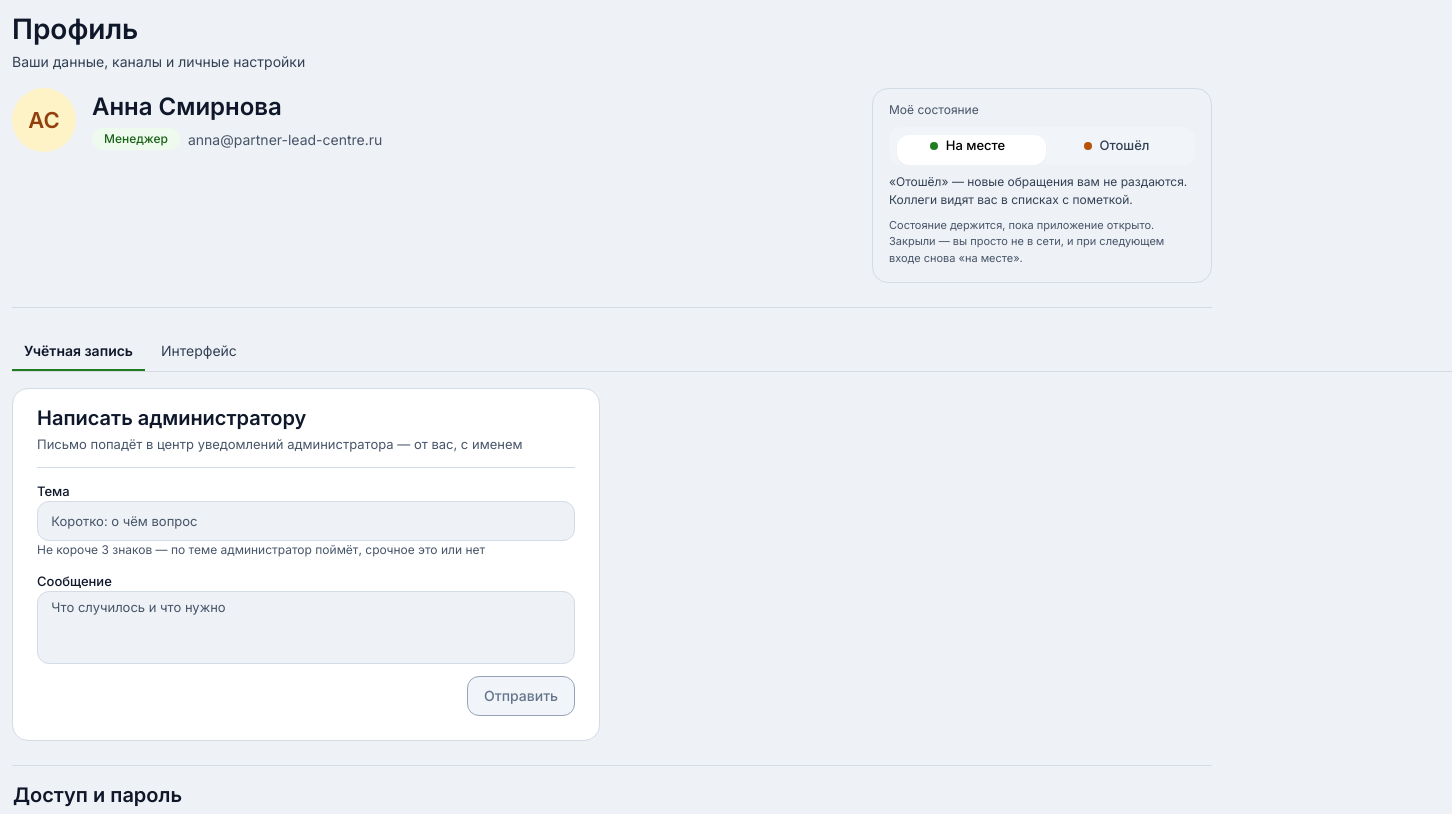
it: Форма «Написать администратору» (14 §2.2) › подтверждение гаснет, как только человек начал писать следующее письмо
Type "Не работает отправка" into the field labelled "Тема" at (306, 521), box [37,501,575,541]
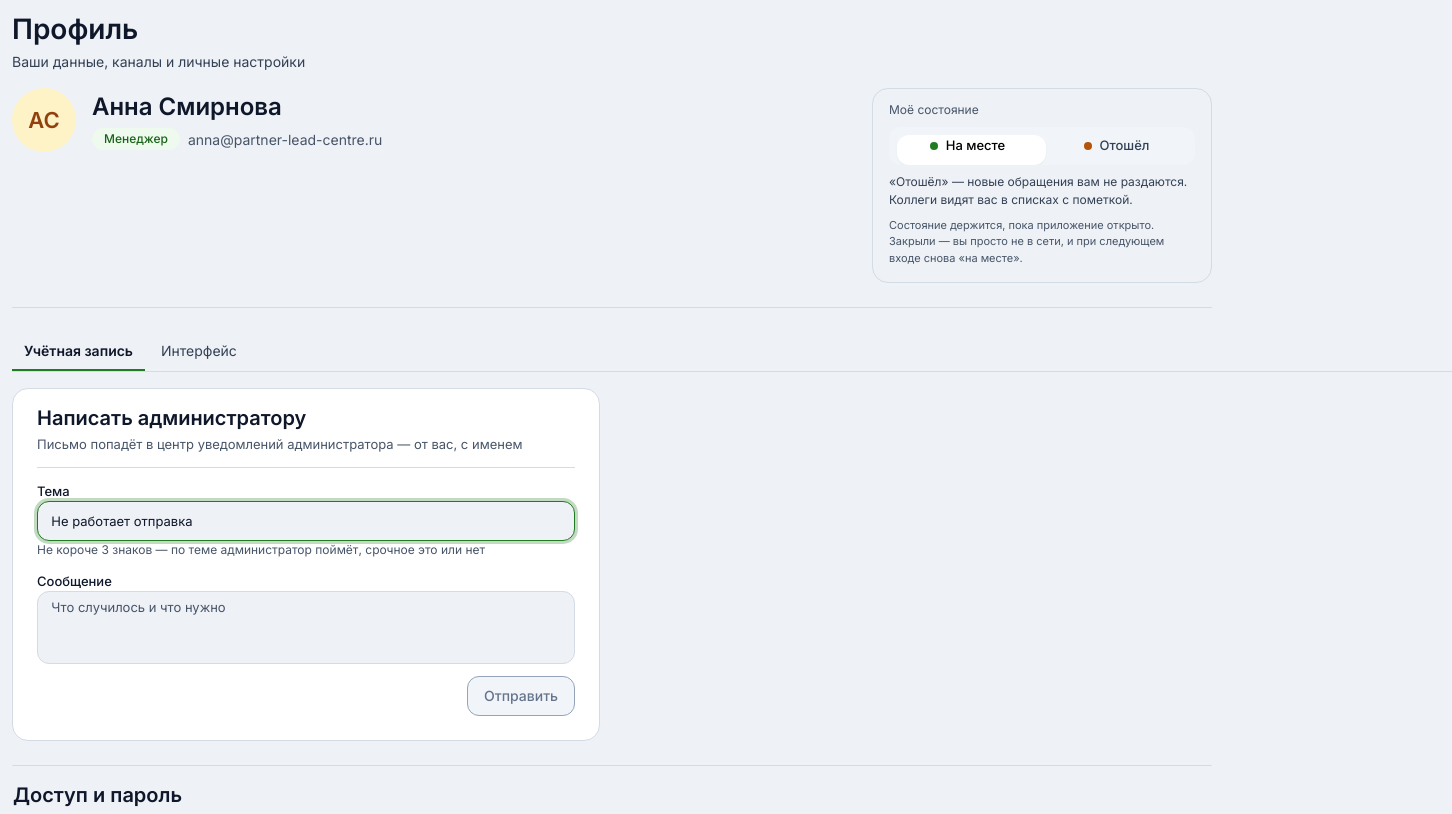
Type "Второй день не уходят сообщения из диалога" into the text box labelled "Сообщение" at (306, 628), box [37,591,575,664]
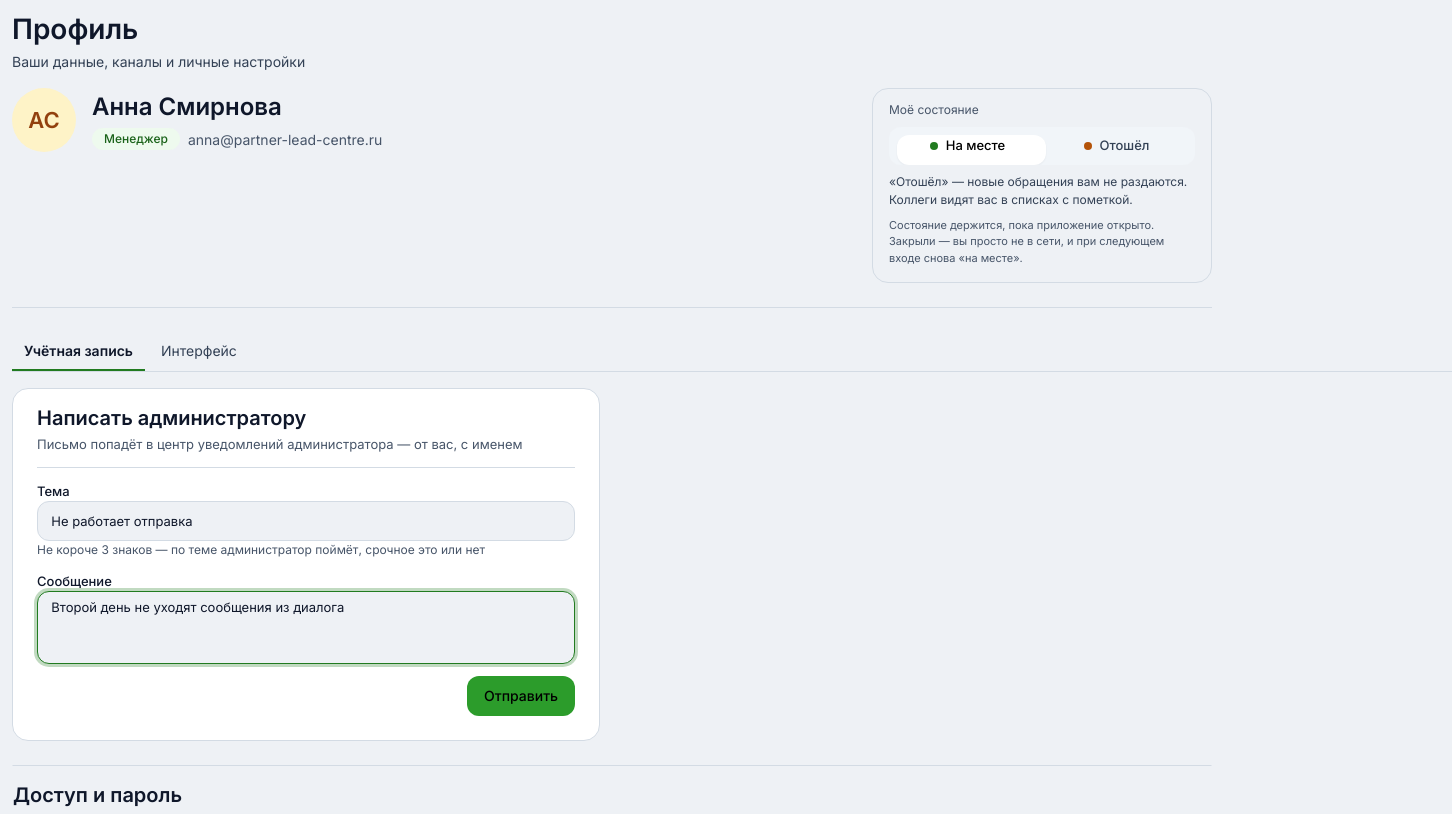
Click the button "Отправить" at (521, 696), box [467,676,575,716]
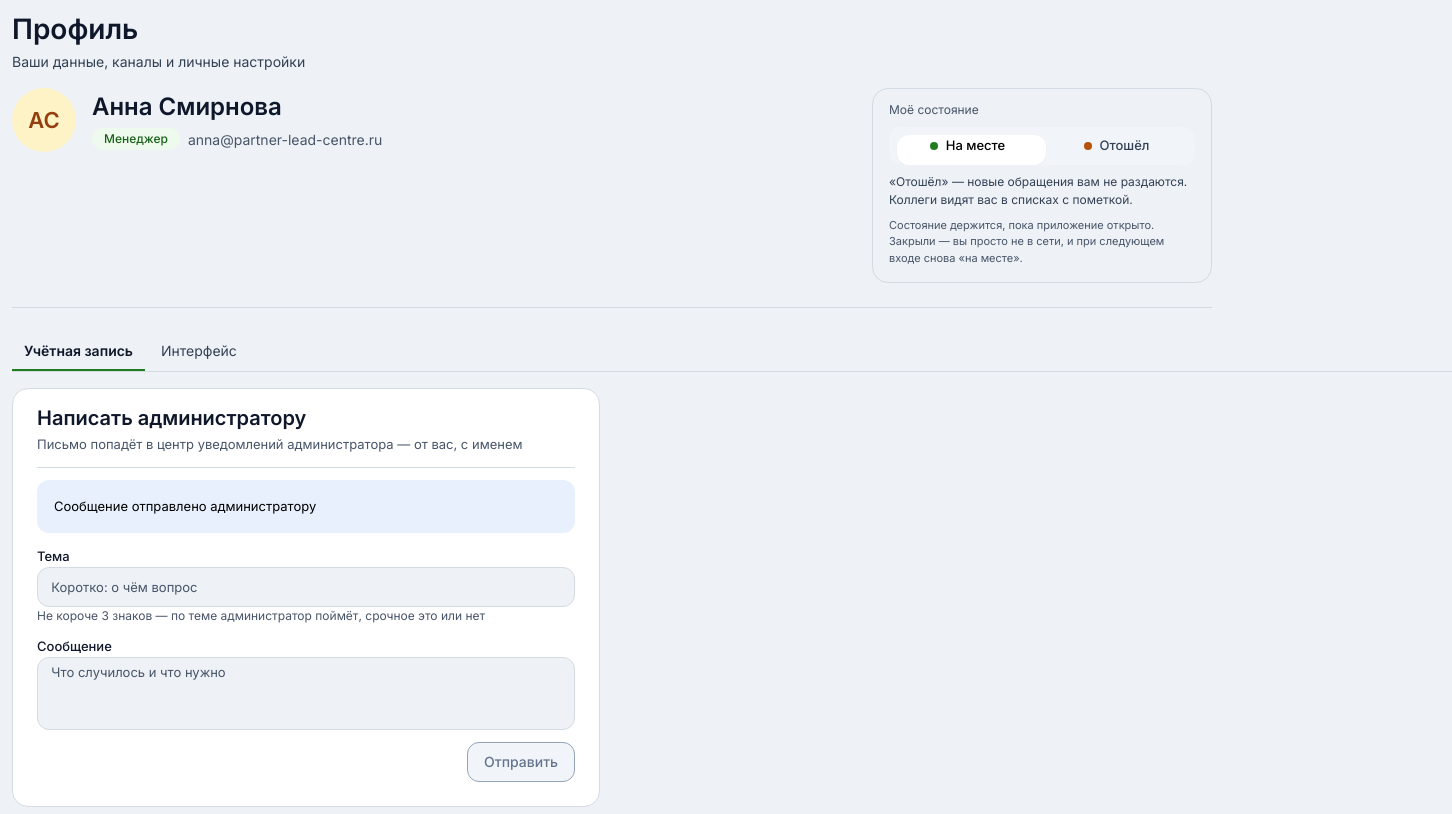
Now the text "Сообщение отправлено администратору" is shown, box [54,498,316,514]
Type "Ещё вопрос" into the field labelled "Тема" at (306, 587), box [37,567,575,607]
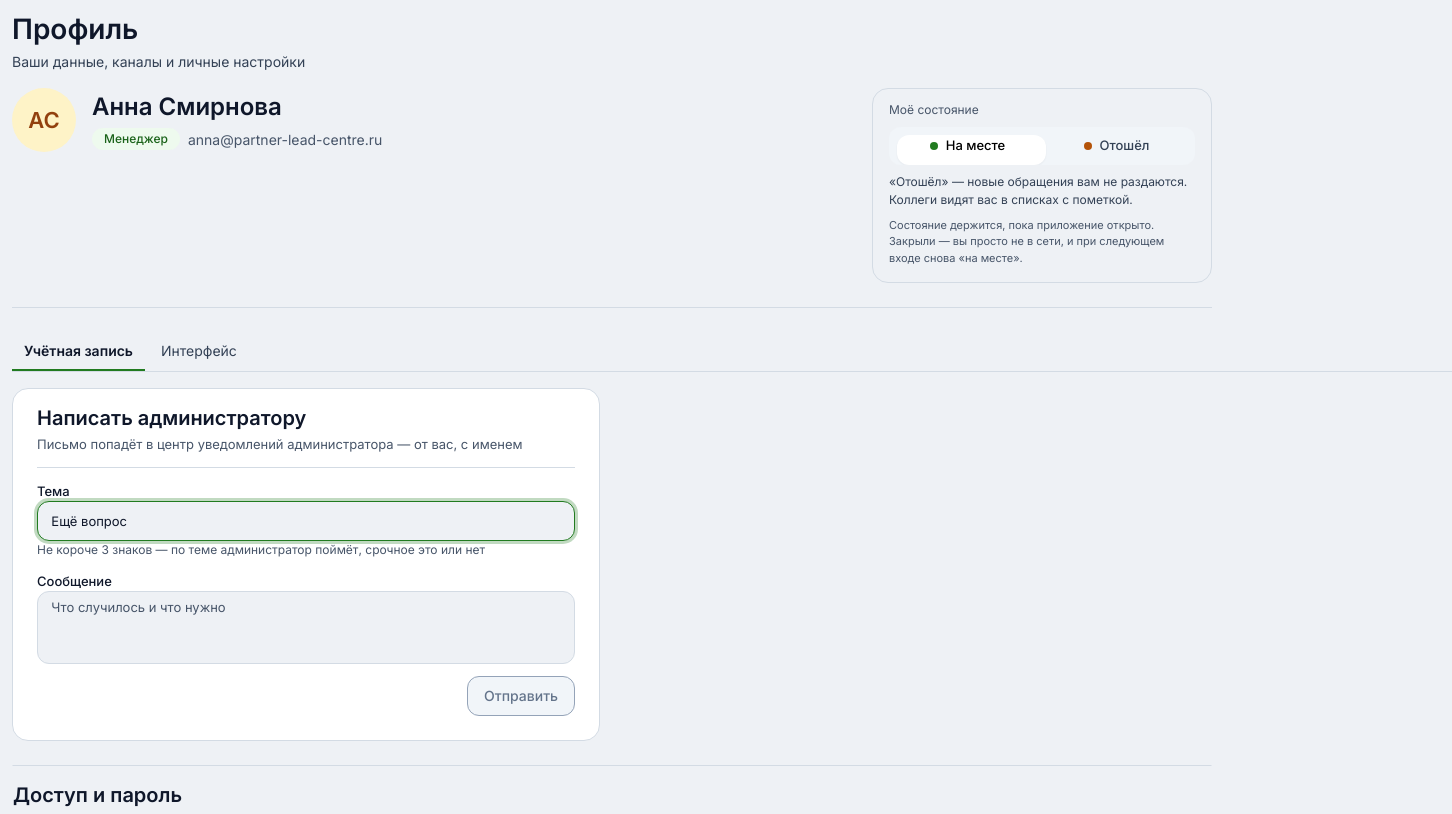
Now the text "Сообщение отправлено администратору" is gone
